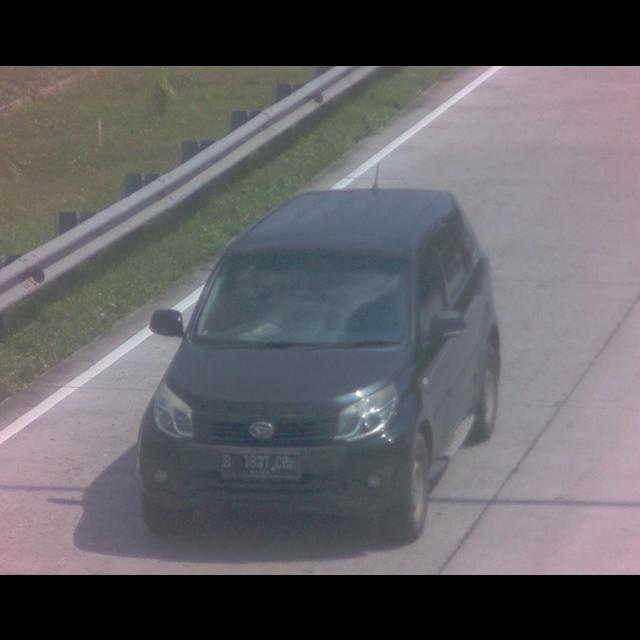plate: (219, 448, 303, 480)
